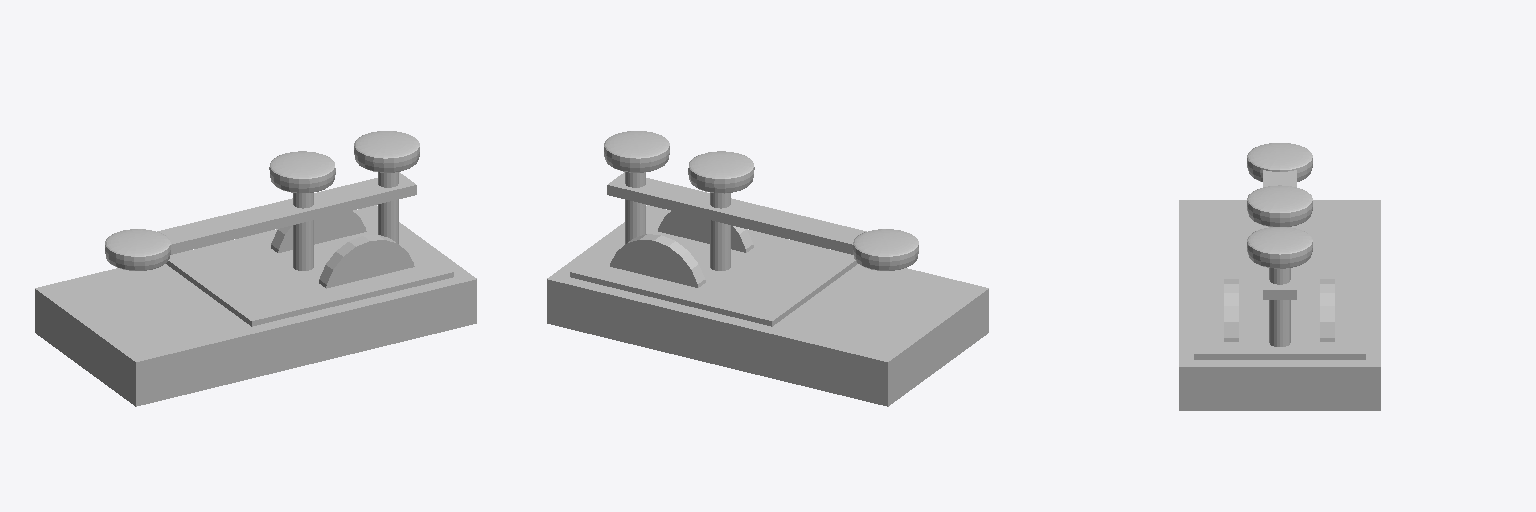
File: telegraph.obj
3 renders of one model, left to right at view 1: azimuth 30°, elevation 25°; view 2: azimuth 150°, elevation 25°; view 3: azimuth 270°, elevation 25°, orthographic.
Visible parts, largest first — view 1: pCube13 telegraph, telegraph pCube15, telegraph pCube14, telegraph pCylinder5, telegraph pSphere3, telegraph pSphere5, telegraph pSphere4, telegraph pCylinder8, telegraph pCylinder6, telegraph pCylinder7; view 2: pCube13 telegraph, telegraph pCube15, telegraph pCube14, telegraph pCylinder8, telegraph pSphere3, telegraph pSphere5, telegraph pSphere4, telegraph pCylinder5, telegraph pCylinder6, telegraph pCylinder7; view 3: pCube13 telegraph, telegraph pCube15, telegraph pSphere4, telegraph pSphere5, telegraph pSphere3, telegraph pCylinder7, telegraph pCube14, telegraph pCylinder5, telegraph pCylinder8.
Part boxes in pixels (left/top/right/bottom): pCube13 telegraph: left=35, top=205, right=476, bottom=406; telegraph pCube15: left=166, top=209, right=453, bottom=326; telegraph pCube14: left=157, top=172, right=416, bottom=254; telegraph pCylinder5: left=319, top=234, right=414, bottom=288; telegraph pSphere3: left=105, top=229, right=170, bottom=270; telegraph pSphere5: left=269, top=151, right=335, bottom=193; telegraph pSphere4: left=354, top=131, right=419, bottom=172; telegraph pCylinder8: left=271, top=211, right=366, bottom=252; telegraph pCylinder6: left=293, top=193, right=313, bottom=270; telegraph pCylinder7: left=378, top=172, right=398, bottom=243; pCube13 telegraph: left=547, top=205, right=988, bottom=406; telegraph pCube15: left=570, top=209, right=857, bottom=326; telegraph pCube14: left=607, top=172, right=866, bottom=254; telegraph pCylinder8: left=610, top=234, right=705, bottom=287; telegraph pSphere3: left=853, top=229, right=918, bottom=270; telegraph pSphere5: left=688, top=151, right=754, bottom=193; telegraph pSphere4: left=604, top=131, right=669, bottom=172; telegraph pCylinder5: left=658, top=211, right=753, bottom=252; telegraph pCylinder6: left=710, top=193, right=730, bottom=270; telegraph pCylinder7: left=625, top=172, right=645, bottom=244; pCube13 telegraph: left=1179, top=200, right=1380, bottom=410; telegraph pCube15: left=1194, top=255, right=1365, bottom=359; telegraph pSphere4: left=1247, top=227, right=1312, bottom=268; telegraph pSphere5: left=1247, top=185, right=1312, bottom=226; telegraph pSphere3: left=1247, top=143, right=1312, bottom=181; telegraph pCylinder7: left=1269, top=268, right=1290, bottom=346; telegraph pCube14: left=1263, top=170, right=1296, bottom=299; telegraph pCylinder5: left=1224, top=279, right=1238, bottom=341; telegraph pCylinder8: left=1320, top=279, right=1334, bottom=341.
Size of the model in its own units: 2 by 0.9172 by 1.03.